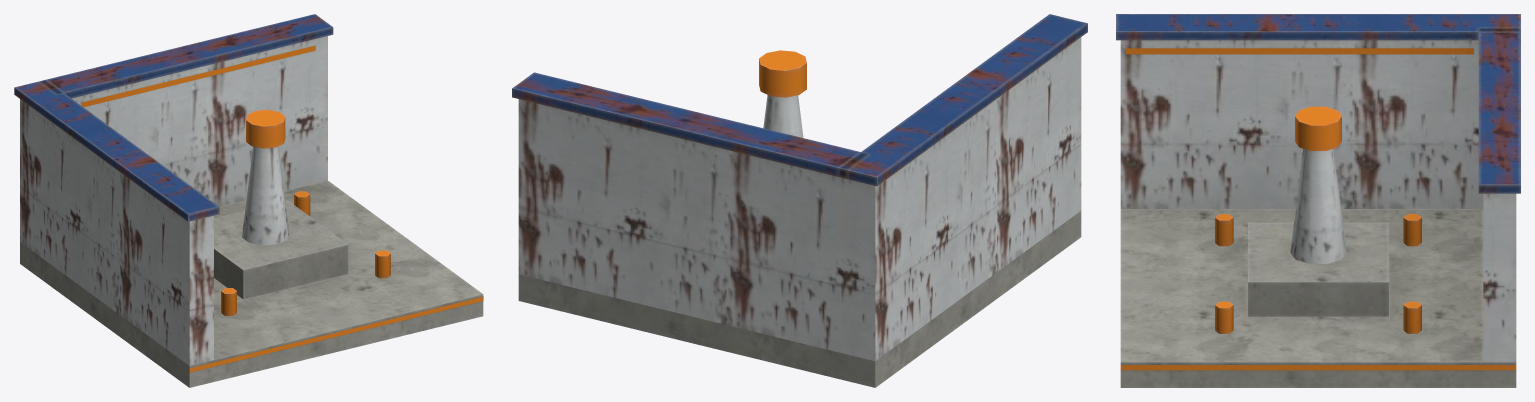
Rendered from gallery.glb.
The picture shows the model from 3 angles, left to right: view 1: azimuth 30°, elevation 25°; view 2: azimuth 150°, elevation 25°; view 3: azimuth 270°, elevation 25°; orthographic projection. The views are drawn at different scales.
Visible parts, largest first — view 1: te_gallery; view 2: te_gallery; view 3: te_gallery.
Boxes of the visible parts, box(x1,y1,x2,y2) form: te_gallery: box(14, 14, 483, 387); te_gallery: box(512, 14, 1087, 387); te_gallery: box(1116, 14, 1520, 387).
Bounding box in the file's own units: 0.86 × 0.48 × 0.86.
Materials: 1 (1 with a texture image).
